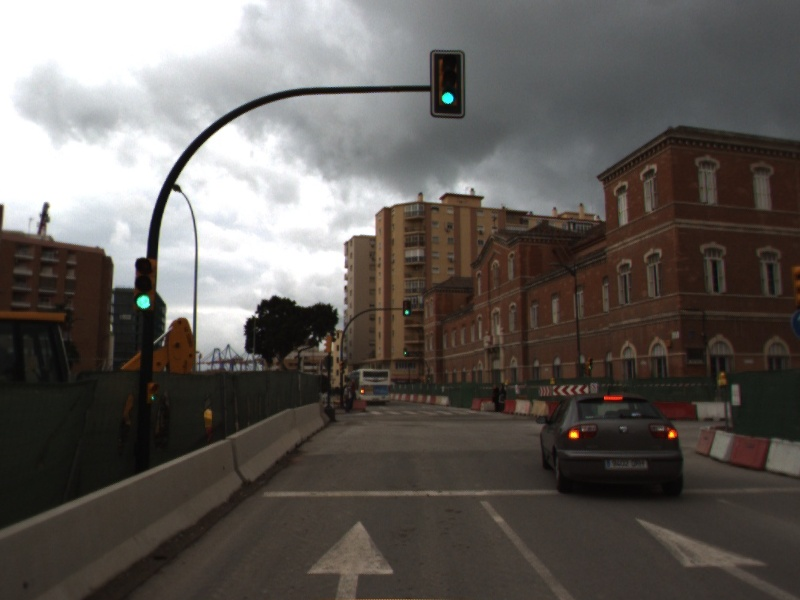STRAIGHT: (631, 514, 800, 600), (304, 518, 396, 600)
